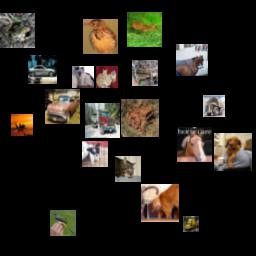airplane: (11, 114, 33, 136)
automobile: (45, 89, 80, 124), (28, 55, 57, 84)
bird: (83, 19, 118, 54), (50, 210, 76, 236)
cat: (141, 184, 179, 222), (115, 156, 141, 182), (72, 66, 94, 88), (96, 66, 118, 88)
deer: (127, 12, 162, 47)
dog: (214, 133, 252, 171), (82, 141, 108, 167)
frog: (121, 99, 159, 137), (0, 13, 35, 48), (132, 60, 158, 86)
truck: (85, 103, 120, 138), (203, 95, 225, 117), (183, 216, 199, 232)
